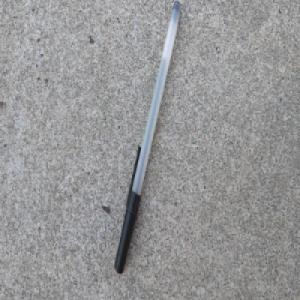Pen: (113, 0, 183, 276)
